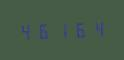four: (18, 21, 34, 40), (86, 19, 102, 38)
one: (52, 20, 68, 39)
six: (35, 20, 51, 40), (69, 19, 85, 39)
